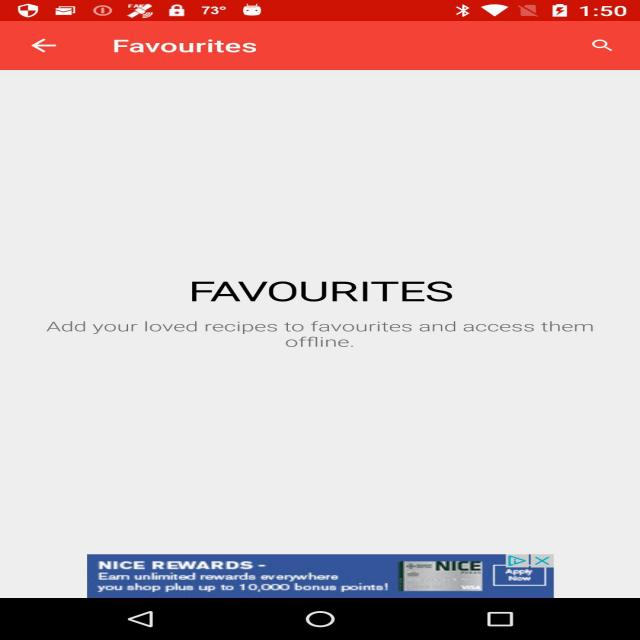text: (32, 231, 640, 413), (112, 35, 353, 70)
